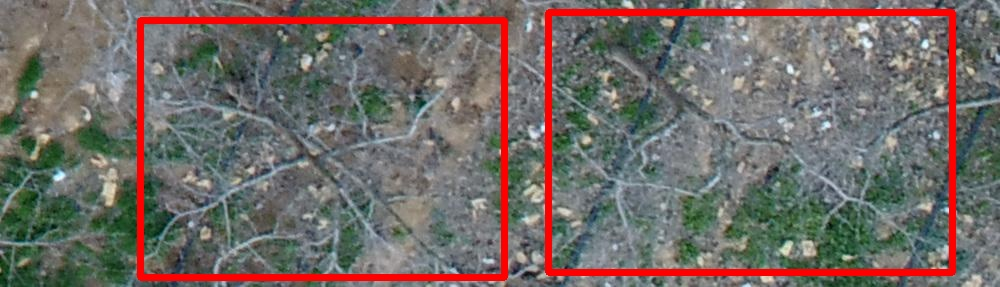apple: (548, 12, 952, 272), (140, 20, 504, 277)
